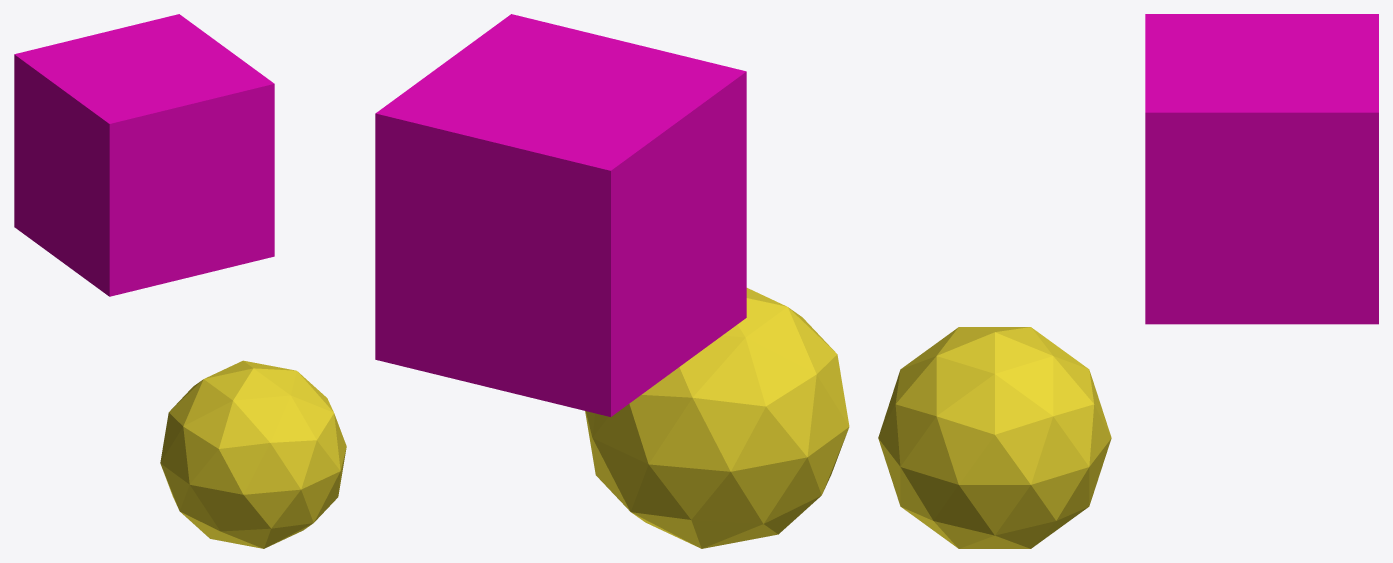
The model's file is scene-debug2.glb.
The picture shows the model from 3 angles, left to right: view 1: azimuth 30°, elevation 25°; view 2: azimuth 150°, elevation 25°; view 3: azimuth 270°, elevation 25°; orthographic projection. The views are drawn at different scales.
Visible parts, largest first — view 1: Cube.001; view 2: Cube.001; view 3: Cube.001.
Part boxes in pixels (bbox=[...]): Cube.001: bbox=[14, 14, 346, 548]; Cube.001: bbox=[375, 14, 849, 548]; Cube.001: bbox=[878, 14, 1378, 548].
Bounding box in the file's own units: 2 × 4.54 × 4.29.
